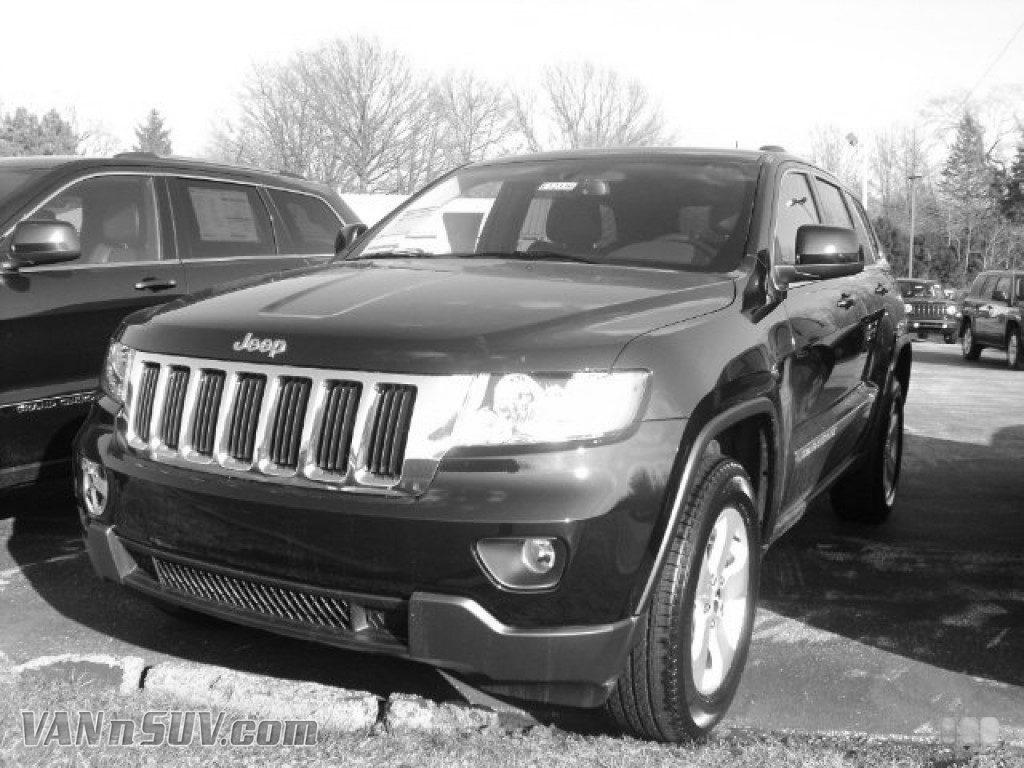car: (82, 145, 913, 750)
